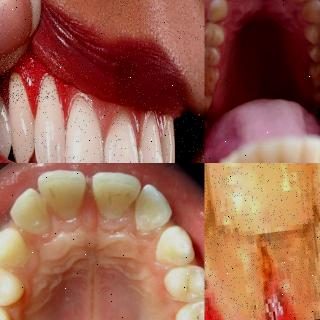Gum Swelling: (0, 56, 76, 118), (204, 280, 306, 320)
calculus: (204, 236, 264, 320), (205, 163, 303, 211)
stains: (302, 39, 320, 57)
